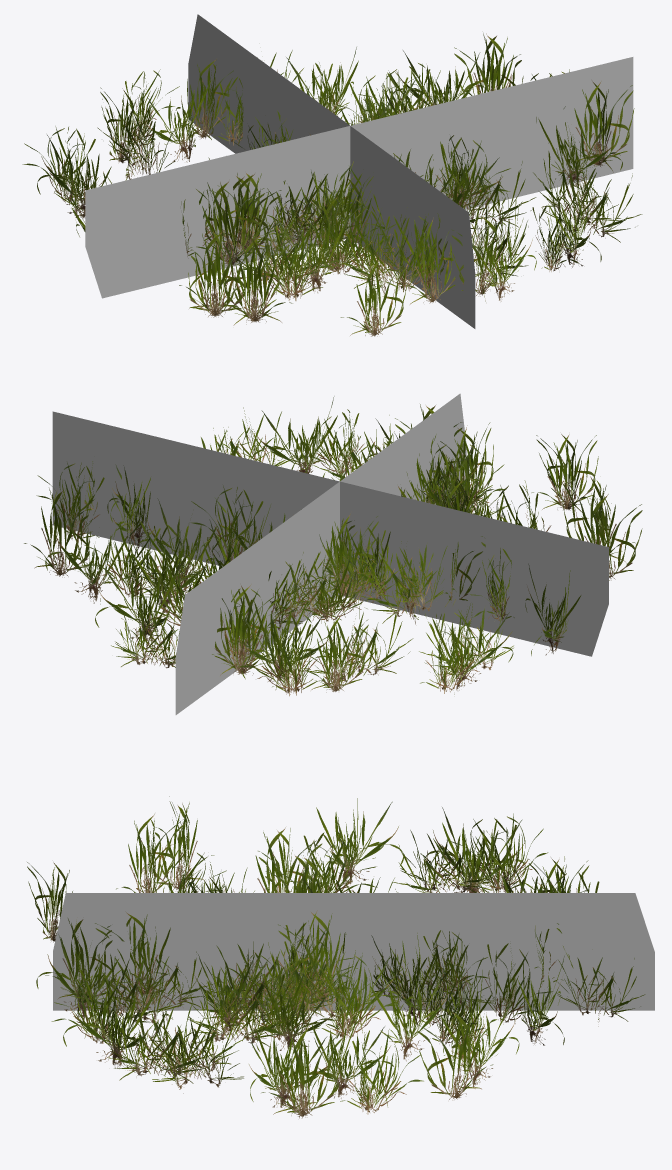
File: Grass11.fbx
3 views of the same model, one above another, from view 1: azimuth 30°, elevation 25°; view 2: azimuth 150°, elevation 25°; view 3: azimuth 270°, elevation 25° (orthographic). The views are drawn at different scales.
Visible parts, largest first — view 1: Billboard, LOD0; view 2: Billboard, LOD0; view 3: LOD0, Billboard.
Part boxes in pixels (x1,y1,x2,y2): Billboard: (85, 14, 633, 328); LOD0: (22, 33, 642, 336); Billboard: (52, 393, 608, 714); LOD0: (24, 396, 642, 696); LOD0: (27, 796, 645, 1118); Billboard: (53, 893, 654, 1010).
Size of what is drawn, in the model's own units: 356 by 72.89 by 341.
